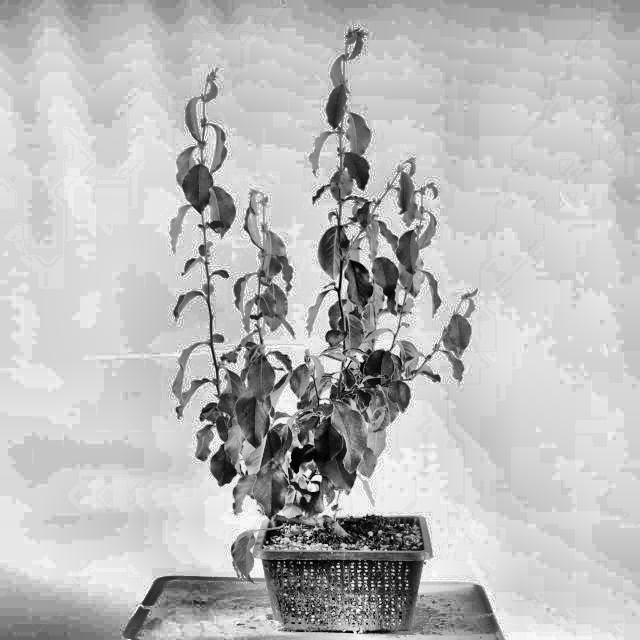plants: (157, 20, 482, 630), (158, 363, 354, 599), (378, 159, 448, 256), (327, 22, 387, 122)
